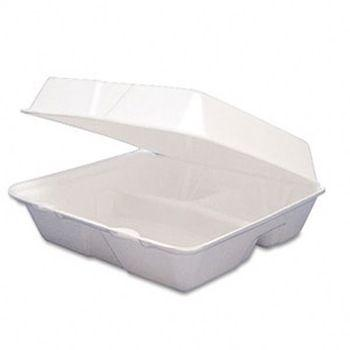PS: (6, 75, 328, 296)
